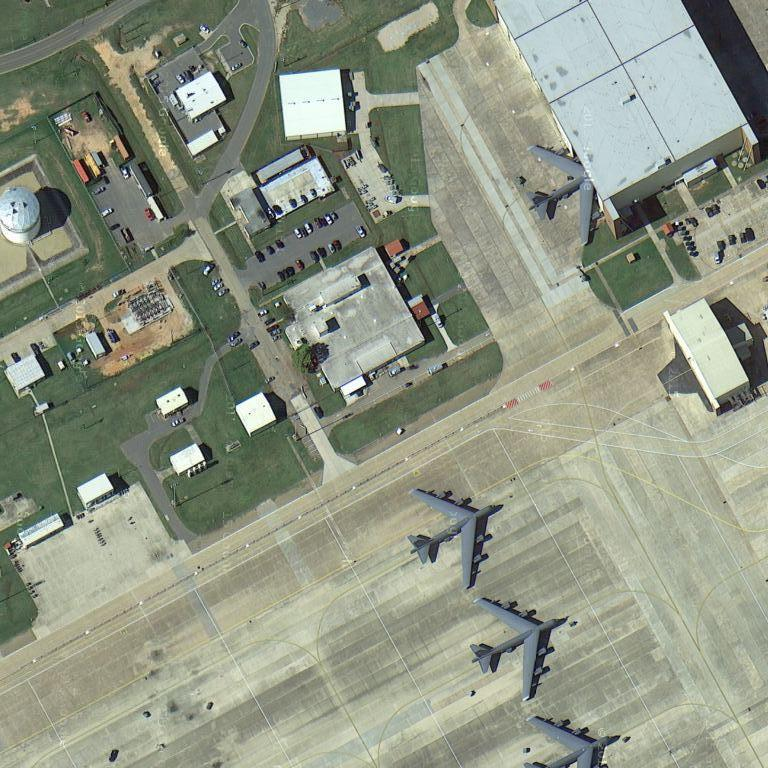B-52: (465, 593, 563, 704), (406, 483, 505, 590), (526, 712, 627, 768)
